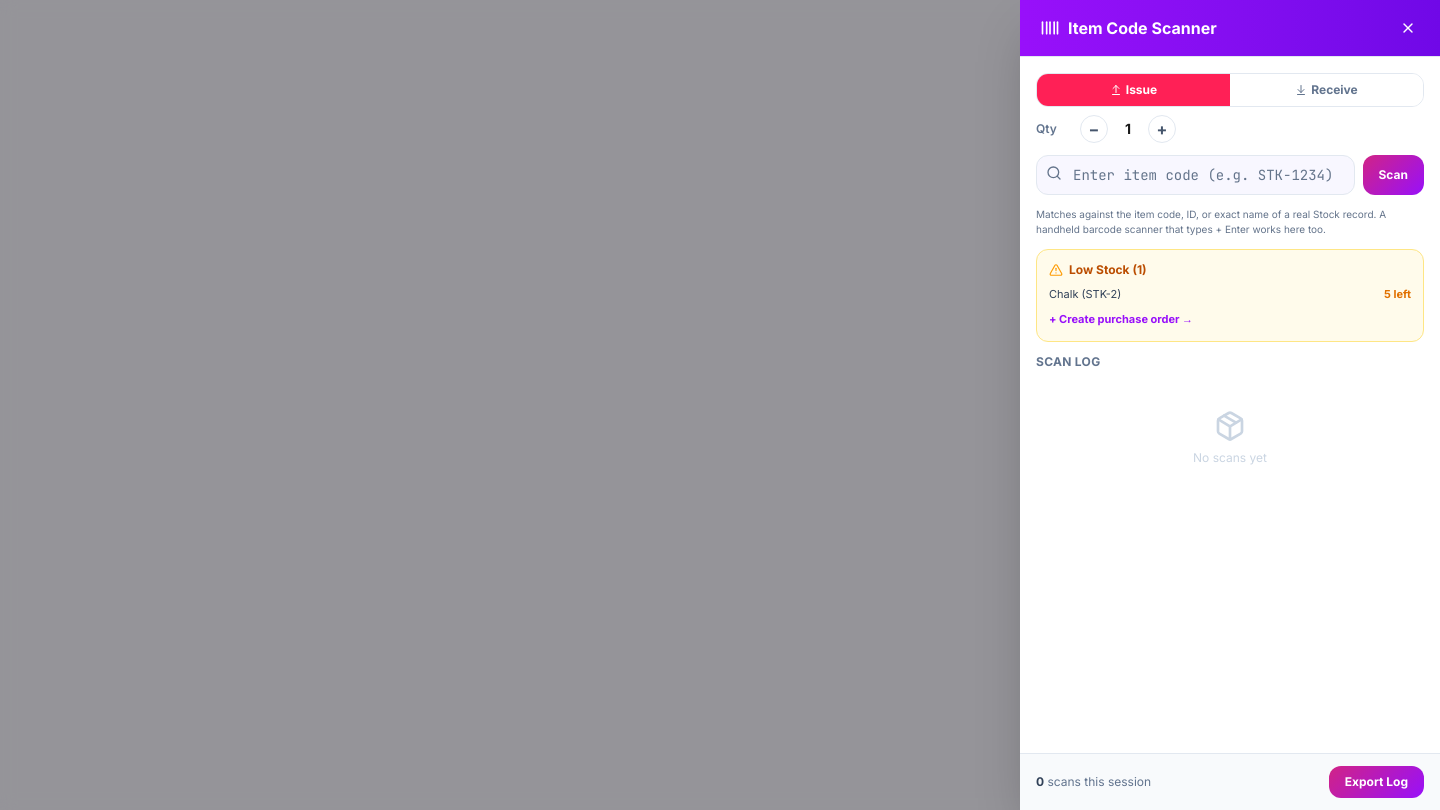
Test: BarcodeScanner › clears the scan log when 'Clear' is clicked
Type "STK-1" into the field with placeholder "Enter item code (e.g. STK-1234)".
click(1195, 175); type("STK-1")  # box [1036, 155, 1354, 195]
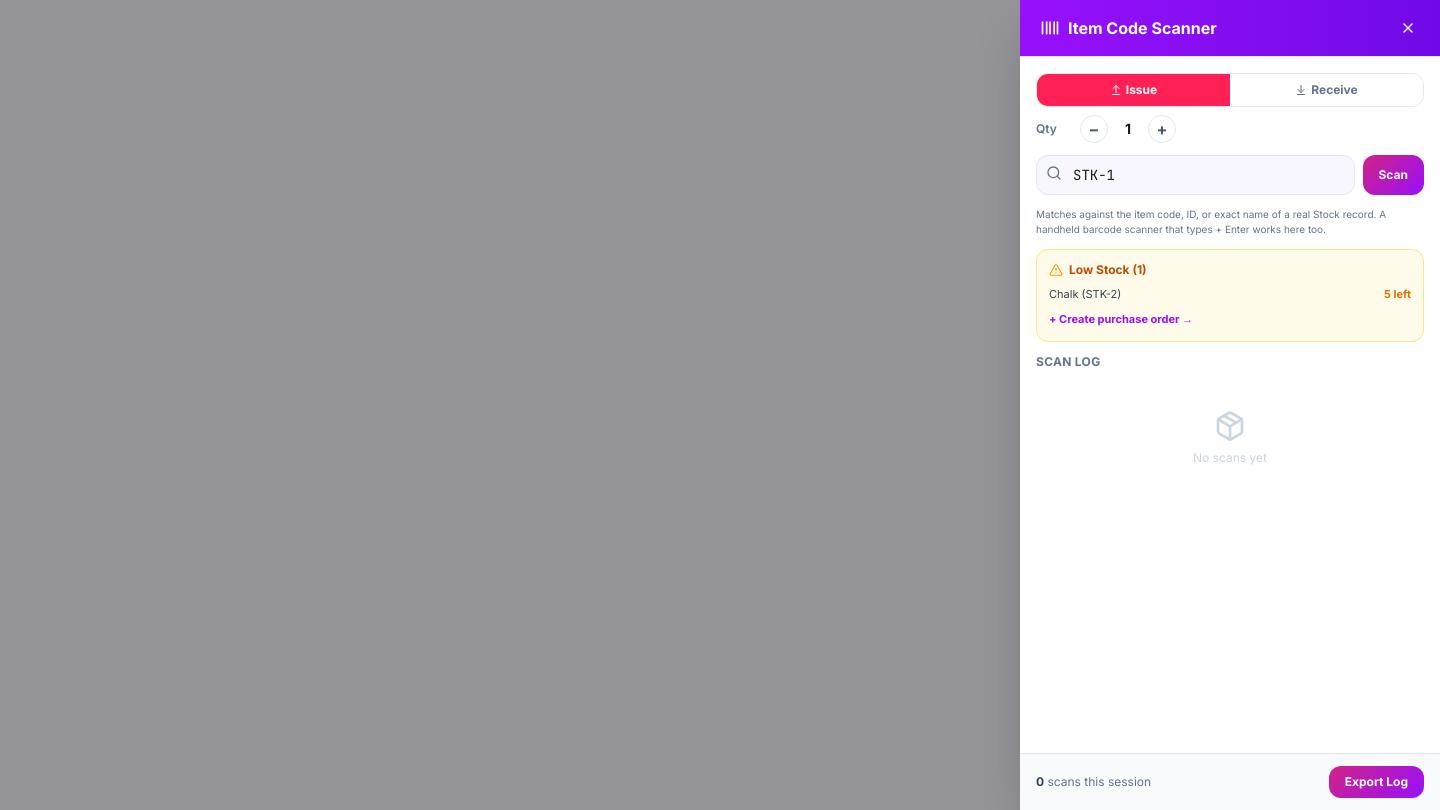
Click the button "Scan".
click(1393, 175)  # box [1362, 155, 1424, 195]
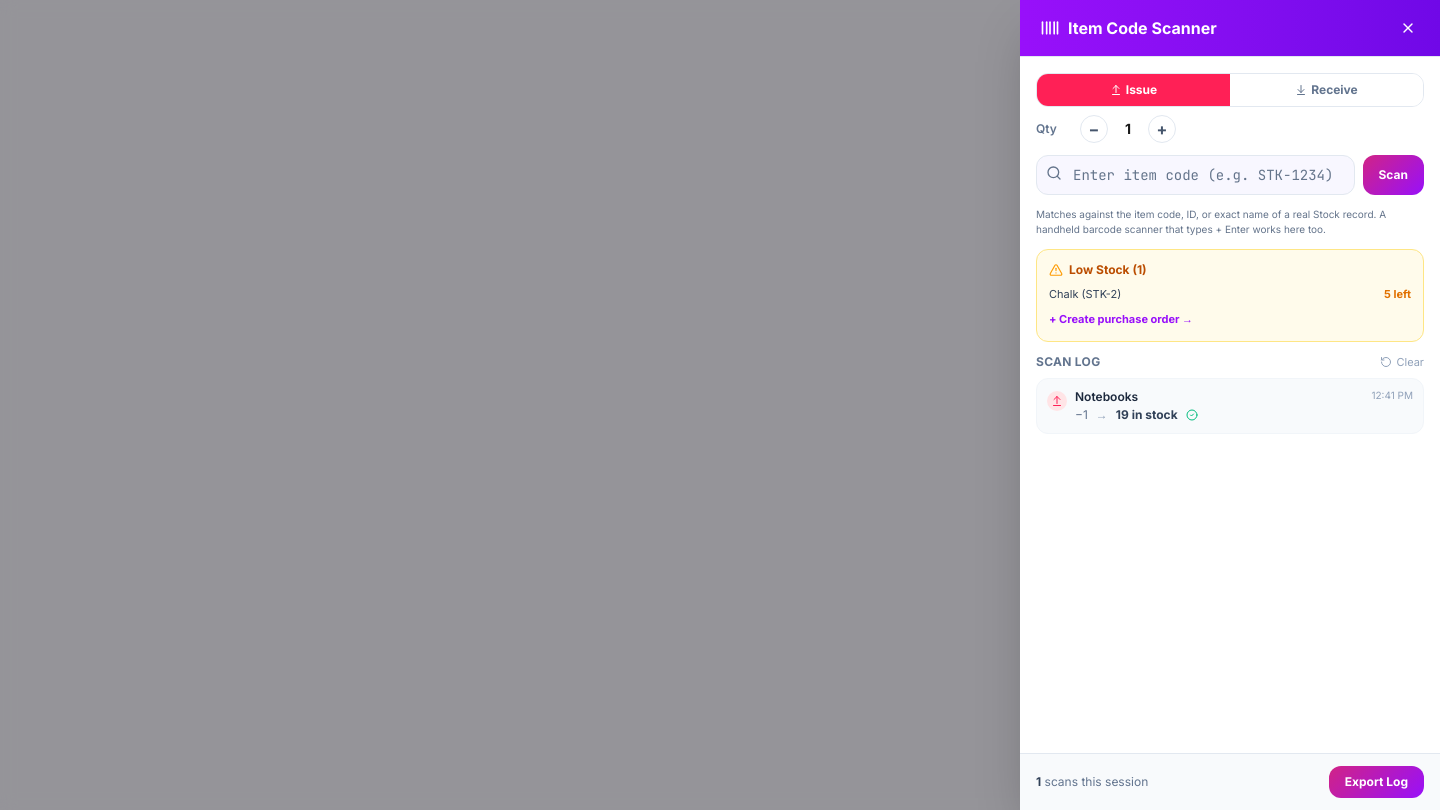
Result: the text "Notebooks" is shown at [1075, 389, 1138, 404]
Click the button "Clear".
click(1402, 362)  # box [1380, 354, 1424, 370]
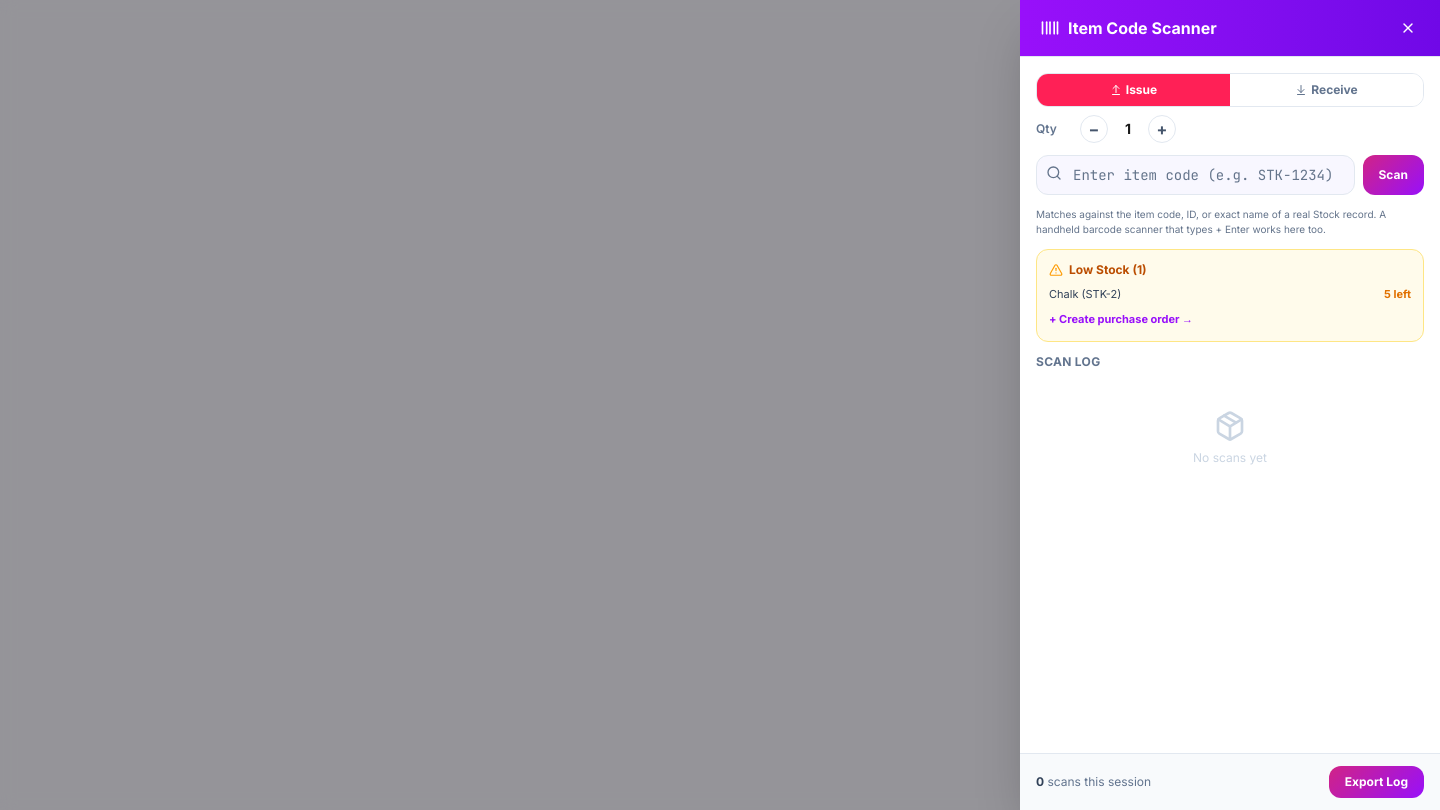
Result: the text "No scans yet" is shown at [1193, 450, 1267, 466]
